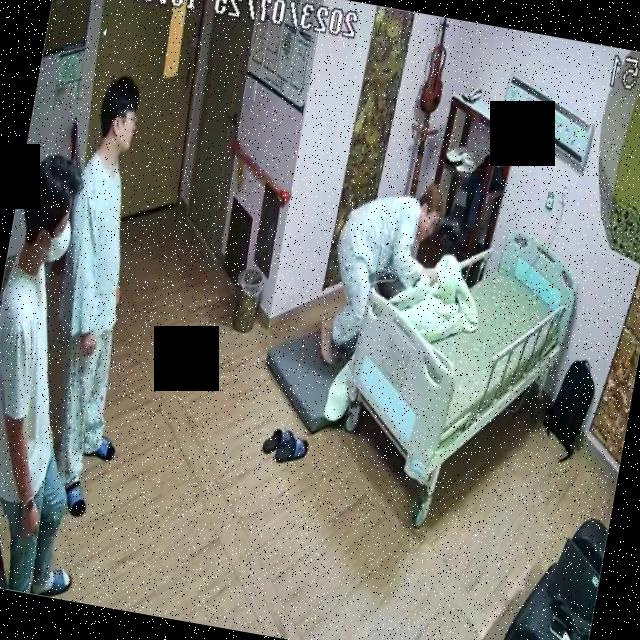danger: (314, 166, 449, 377)
patient: (22, 68, 180, 522), (314, 166, 449, 376)
